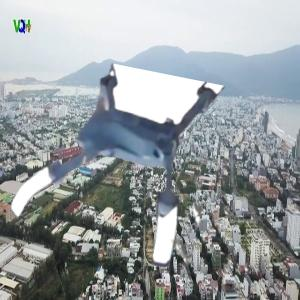drone: (11, 66, 211, 266)
